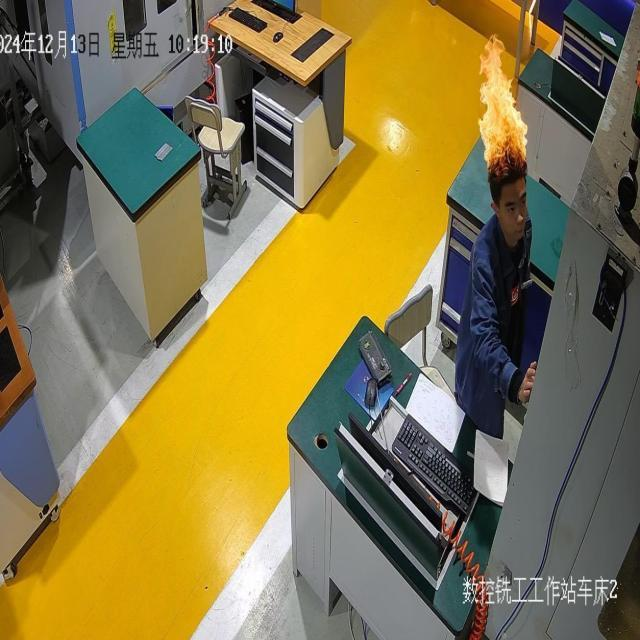smoke: (478, 35, 528, 176)
